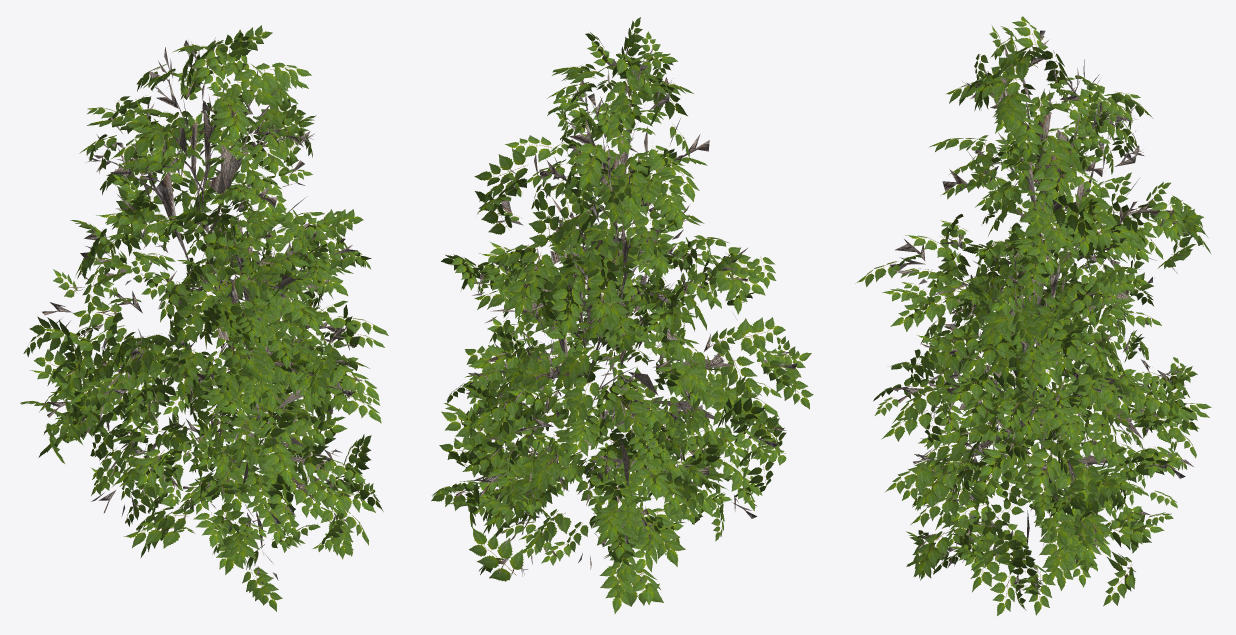
Rendered from tree-river-birch.glb.
3 views of the same model, side by side, from view 1: azimuth 30°, elevation 25°; view 2: azimuth 150°, elevation 25°; view 3: azimuth 270°, elevation 25° (orthographic).
Parts seen in each view (by area): view 1: tree-river-birch; view 2: tree-river-birch; view 3: tree-river-birch.
Part boxes in pixels (box(x1,y1,x2,y2)): tree-river-birch: box(20, 25, 388, 611); tree-river-birch: box(431, 17, 813, 613); tree-river-birch: box(855, 16, 1211, 615).
Size of the model in its own units: 4.49 by 7.03 by 4.14.
2 materials, 2 textured.
